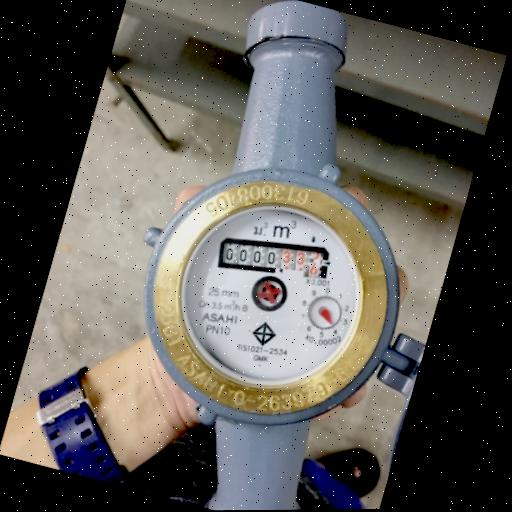0: (262, 245, 282, 269), (249, 243, 268, 268), (235, 242, 254, 266), (220, 241, 239, 264)
3: (290, 248, 310, 273), (276, 247, 296, 271)
5: (303, 249, 326, 279)
border_water_meter_number: (210, 219, 334, 295)
